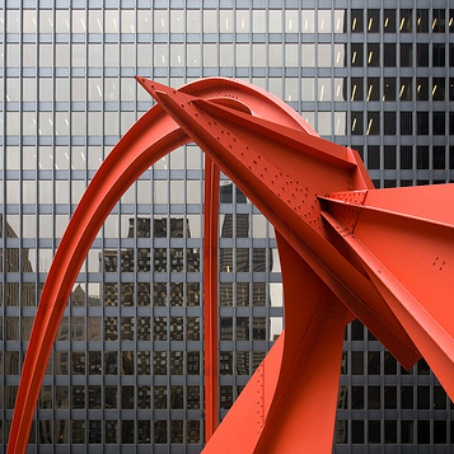building: (1, 1, 443, 445)
